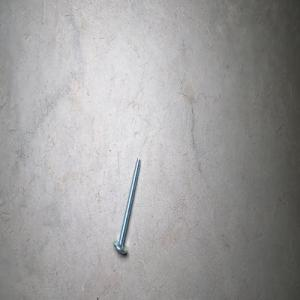Bolt: (112, 156, 141, 254)
